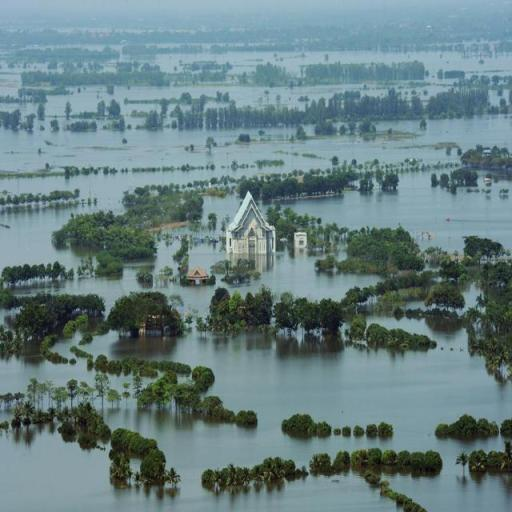flood: (0, 44, 512, 271), (0, 313, 512, 512), (14, 192, 385, 322), (279, 171, 512, 254), (0, 354, 96, 394), (3, 44, 124, 54), (461, 284, 483, 310), (0, 62, 52, 73), (3, 104, 33, 120), (0, 75, 20, 98), (401, 301, 425, 310)
house: (226, 191, 277, 270), (186, 266, 210, 288), (294, 231, 308, 246)
